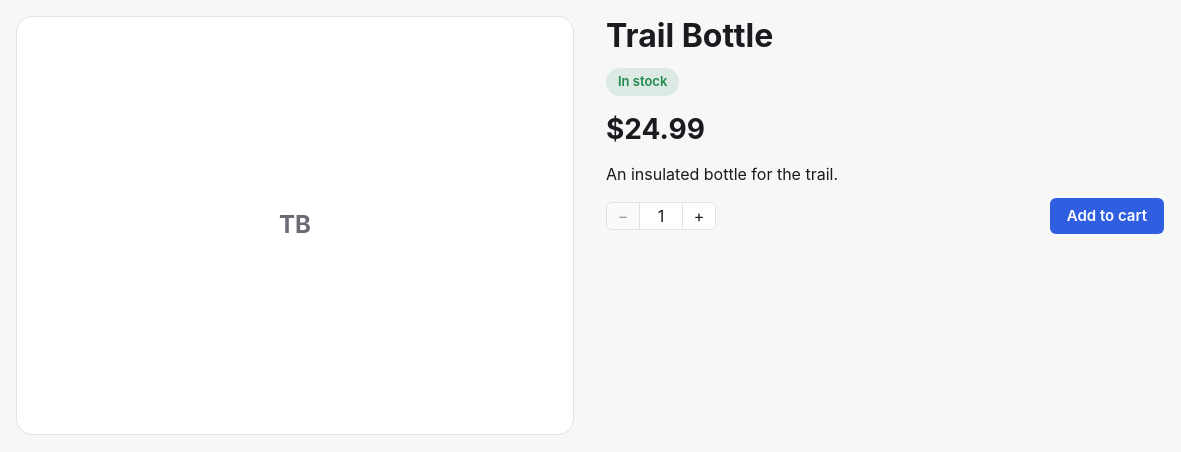
ProductDetailPage › adds the product to the cart when signed in
Expected: the heading "Trail Bottle" is shown, [606,16,773,55]
What coordinates should you click on to do the following:
click the button "Add to cart"
I would click on:
 (1107, 216)
Its box is [1050,198,1164,234].
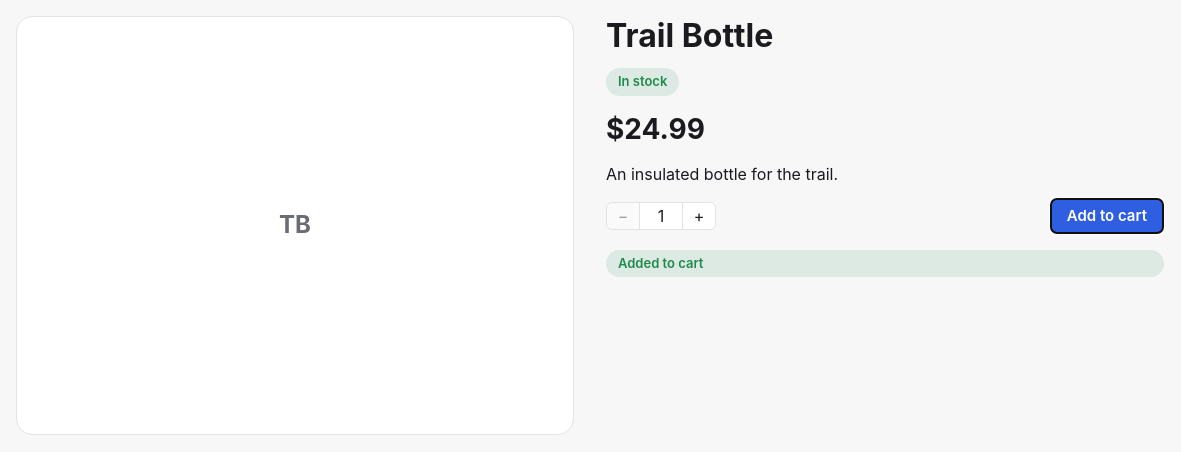
Now the text "Added to cart" is shown, box [606,250,1164,277]
